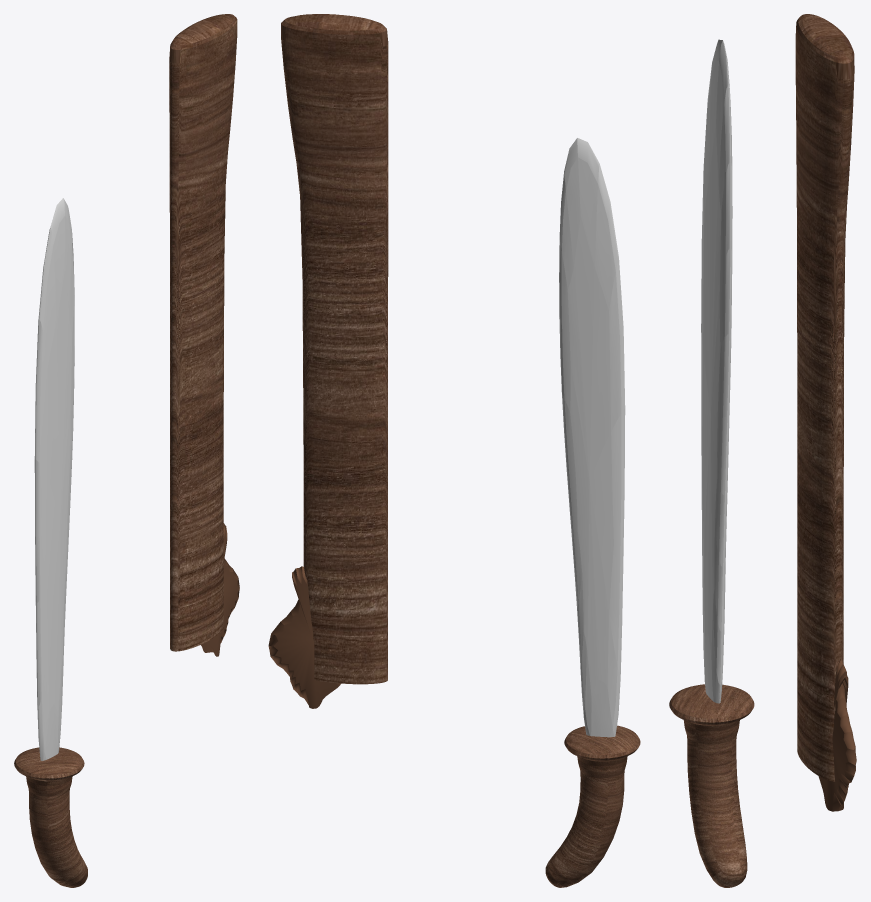
Rendered from klewang_revisi[1].fbx.
The picture shows the model from 3 angles, left to right: view 1: azimuth 30°, elevation 25°; view 2: azimuth 150°, elevation 25°; view 3: azimuth 270°, elevation 25°; orthographic projection. The views are drawn at different scales.
Visible parts, largest first — view 1: SM_KLEWANG; view 2: SM_KLEWANG; view 3: SM_KLEWANG.
Part boxes in pixels (left/top/right/bottom): SM_KLEWANG: left=14, top=14, right=239, bottom=887; SM_KLEWANG: left=268, top=14, right=640, bottom=887; SM_KLEWANG: left=669, top=14, right=856, bottom=887.
Bounding box in the file's own units: 108 × 291 × 51.7.
